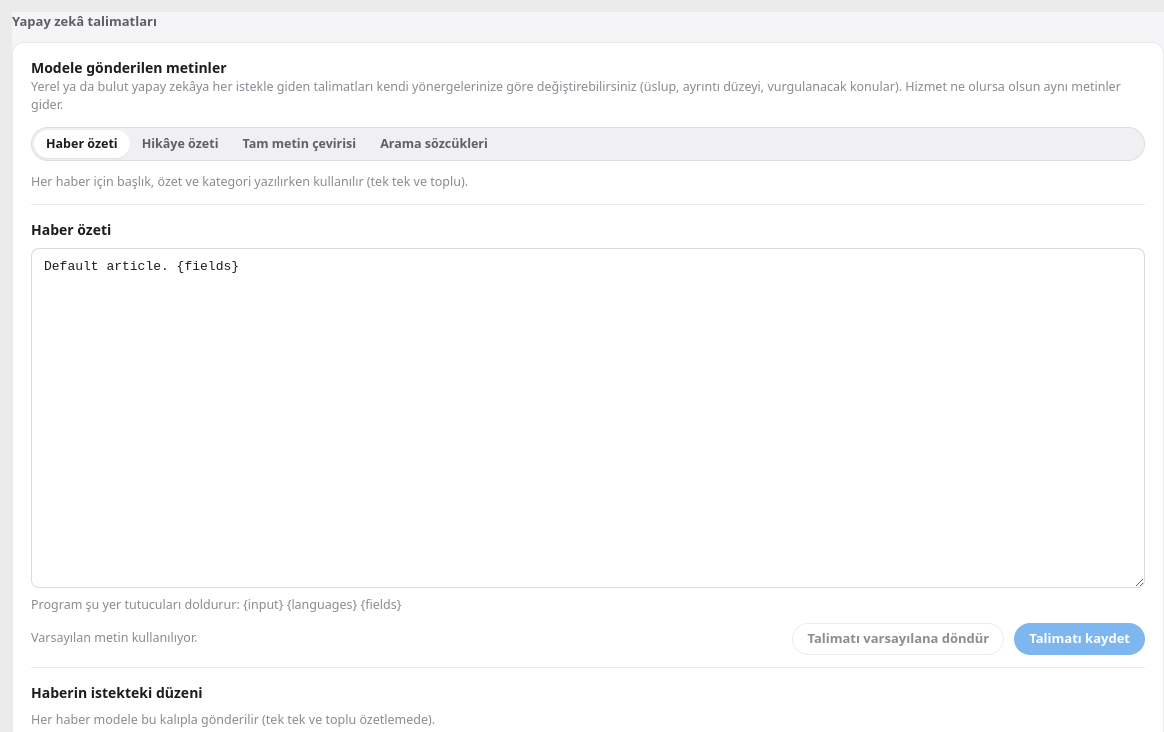
Test: AI instruction settings › saves an edited text for the chosen task only
Step 1. Type " Be brief." into the text box named "Haber özeti" → x=588, y=418, box [31,248,1145,588]
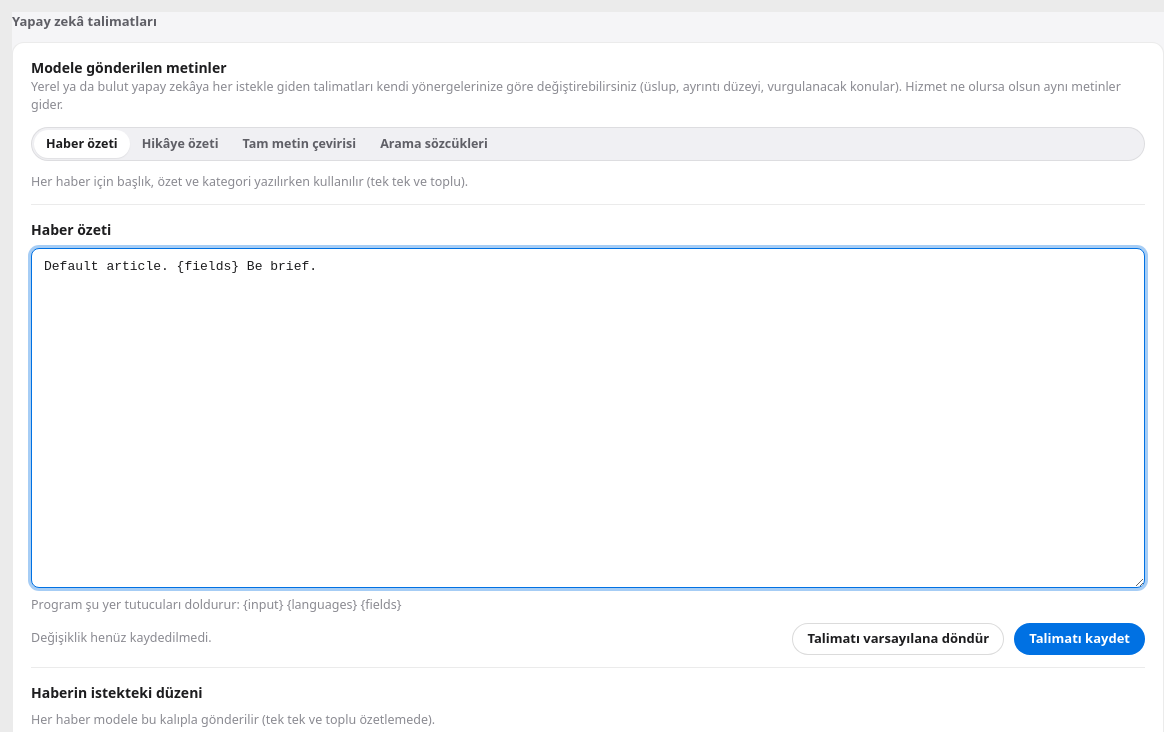
Step 2. Click the button "Talimatı kaydet" → x=1080, y=639, box [1014,623,1145,655]
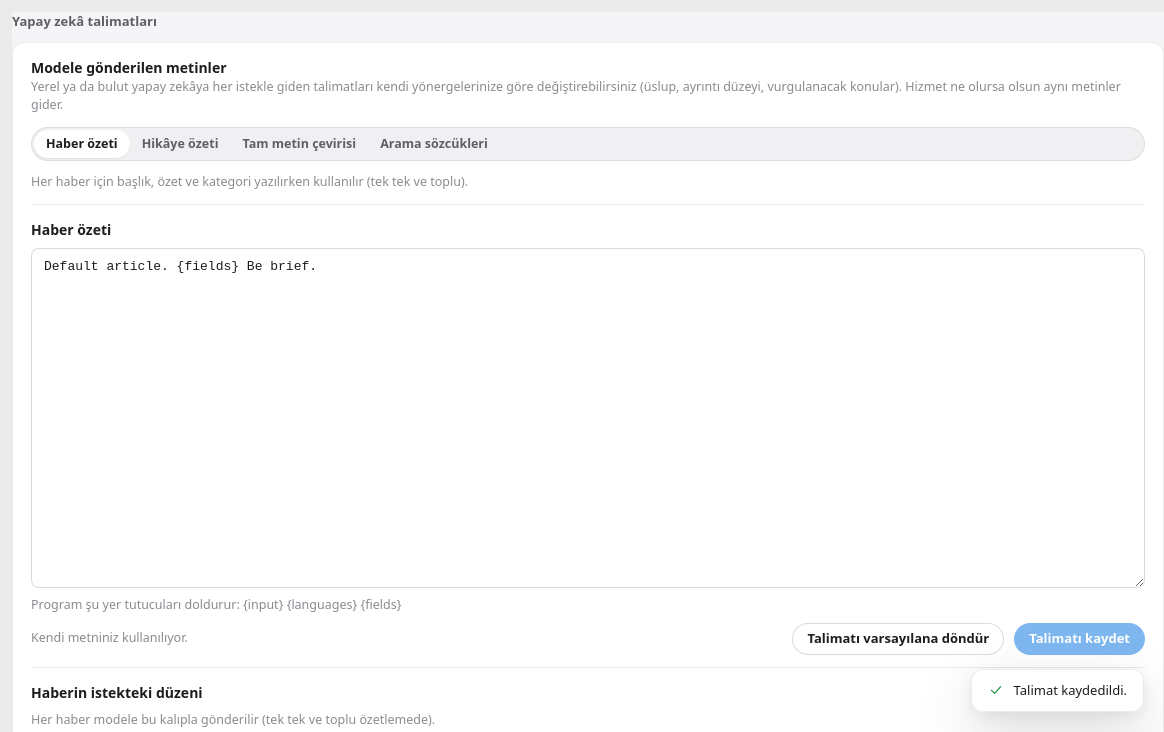
Check: the text "Talimat kaydedildi." is shown, box [1014,680,1127,700]
